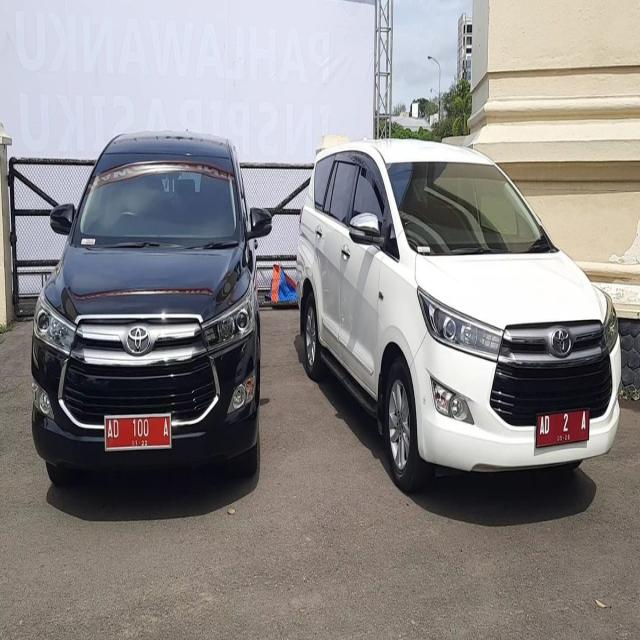plate: (104, 414, 172, 449), (536, 411, 588, 448)
